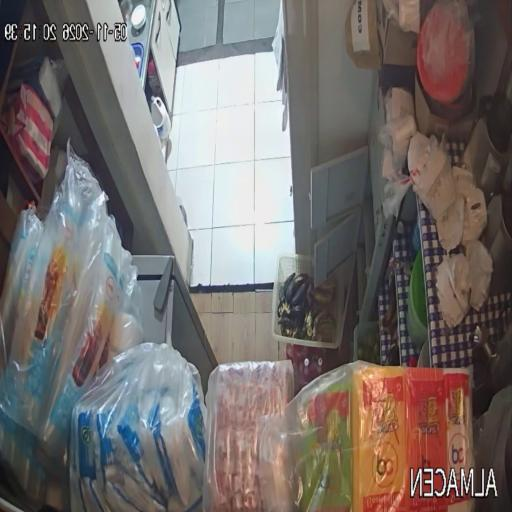Envase para platanos: (271, 254, 344, 348)
Productos culinarios: (0, 139, 143, 507), (259, 361, 477, 512), (69, 343, 206, 512), (203, 361, 294, 512)
Taper: (407, 251, 428, 350)
Taper2: (417, 340, 430, 367)
